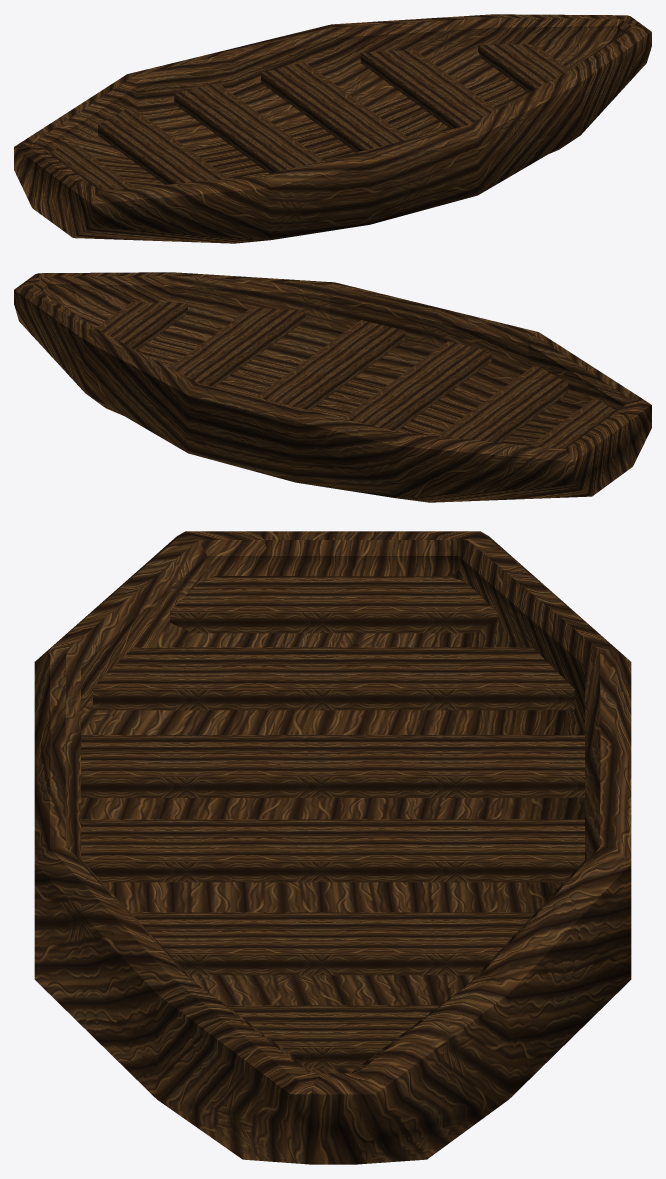
The model's file is RowBoat.fbx.
The picture shows the model from 3 angles, top to bottom: view 1: azimuth 30°, elevation 25°; view 2: azimuth 150°, elevation 25°; view 3: azimuth 270°, elevation 25°; orthographic projection. The views are drawn at different scales.
Parts seen in each view (by area): view 1: RowBoat; view 2: RowBoat; view 3: RowBoat.
Part boxes in pixels (left/top/right/bottom): RowBoat: left=14, top=14, right=651, bottom=243; RowBoat: left=14, top=272, right=651, bottom=502; RowBoat: left=34, top=531, right=631, bottom=1164.
Size of the model in its own units: 13.5 by 2.15 by 5.93.
